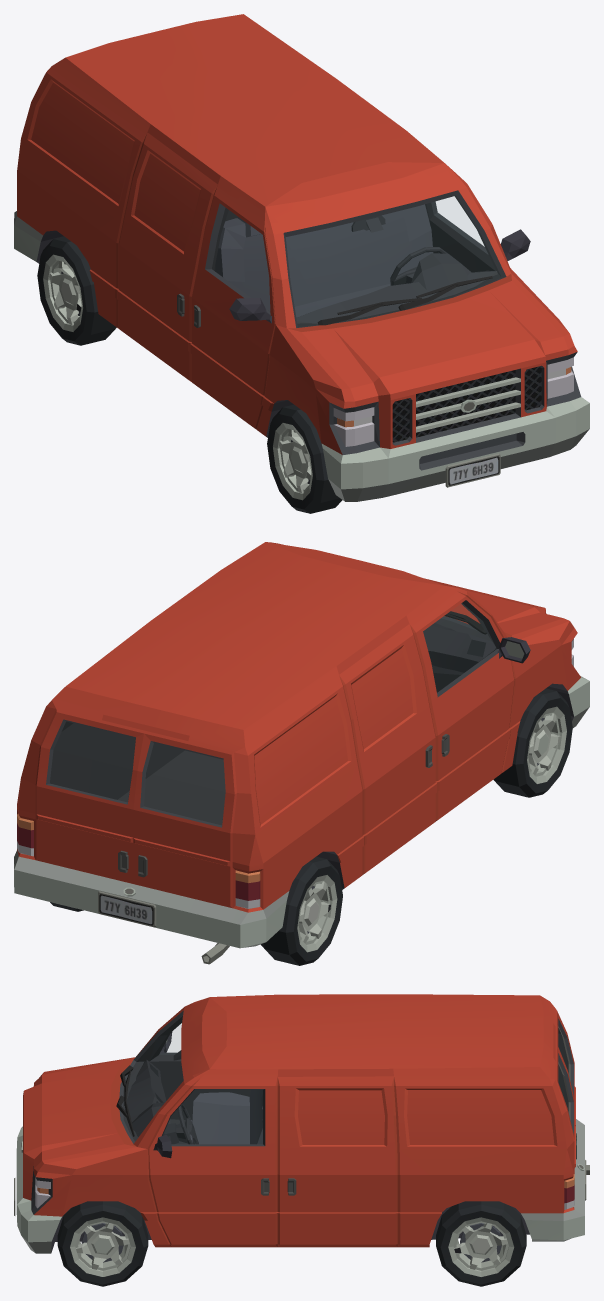
Rendered from Car 4.glb.
3 views of the same model, one above another, from view 1: azimuth 30°, elevation 25°; view 2: azimuth 150°, elevation 25°; view 3: azimuth 270°, elevation 25° (orthographic). The views are drawn at different scales.
Visible parts, largest first — view 1: SM_Veh_Car_Van_19, SM_Veh_Car_Van_Wheel_rr, SM_Veh_Car_Van_Wheel_fr, SM_Veh_Car_Van_Plates; view 2: SM_Veh_Car_Van_19, SM_Veh_Car_Van_Door_r, SM_Veh_Car_Van_Door_l, SM_Veh_Car_Van_Wheel_rr, SM_Veh_Car_Van_Wheel_fr, SM_Veh_Car_Van_Plates; view 3: SM_Veh_Car_Van_19, SM_Veh_Car_Van_Wheel_rl, SM_Veh_Car_Van_Wheel_fl, SM_Veh_Car_Van_Door_l, SM_Veh_Car_Van_Door_r, SM_Veh_Car_Van_SteeringW.
Boxes of the visible parts, left/top/right/bottom form: SM_Veh_Car_Van_19: left=14, top=14, right=589, bottom=501; SM_Veh_Car_Van_Wheel_rr: left=37, top=236, right=116, bottom=345; SM_Veh_Car_Van_Wheel_fr: left=267, top=404, right=342, bottom=513; SM_Veh_Car_Van_Plates: left=445, top=453, right=500, bottom=487; SM_Veh_Car_Van_19: left=14, top=542, right=589, bottom=964; SM_Veh_Car_Van_Door_r: left=133, top=733, right=234, bottom=905; SM_Veh_Car_Van_Door_l: left=36, top=712, right=143, bottom=882; SM_Veh_Car_Van_Wheel_rr: left=260, top=856, right=342, bottom=965; SM_Veh_Car_Van_Wheel_fr: left=493, top=688, right=572, bottom=797; SM_Veh_Car_Van_Plates: left=98, top=891, right=156, bottom=927; SM_Veh_Car_Van_19: left=16, top=994, right=589, bottom=1253; SM_Veh_Car_Van_Wheel_rl: left=436, top=1201, right=526, bottom=1286; SM_Veh_Car_Van_Wheel_fl: left=57, top=1201, right=148, bottom=1286; SM_Veh_Car_Van_Door_l: left=557, top=1046, right=576, bottom=1167; SM_Veh_Car_Van_Door_r: left=557, top=1011, right=576, bottom=1140; SM_Veh_Car_Van_SteeringW: left=176, top=1103, right=198, bottom=1144.
Size of the model in its own units: 2.47 by 2.03 by 5.04.
2 materials, 1 textured.
